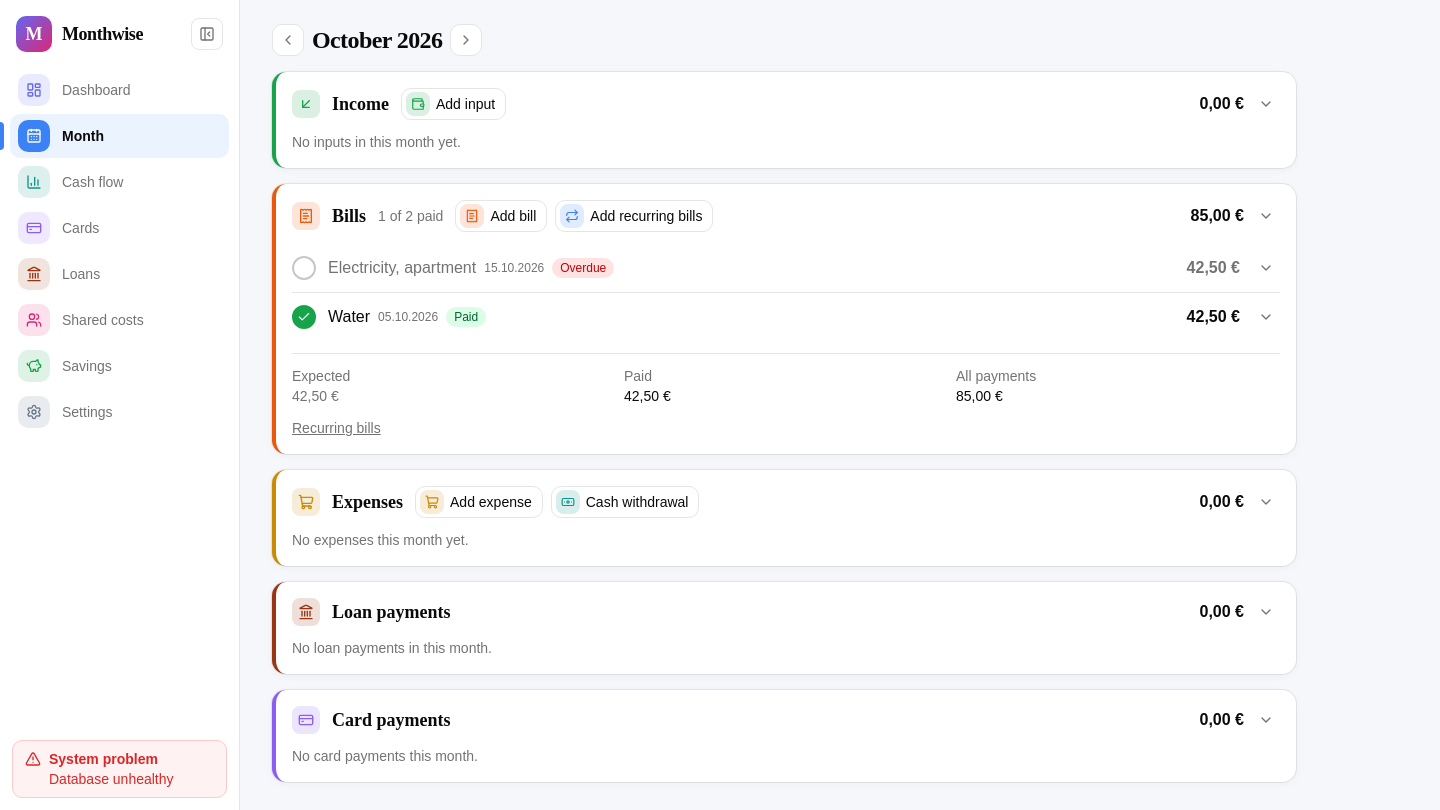
Test: Bills on the Month screen › keeps the add buttons in their sections and shows short rows with details on request
The width and height of the screenshot is (1440, 810).
Expected: the button "Add recurring bills" is shown, [555,200,713,232]
Expected: the text "1 of 2 paid" is shown, [378,206,443,226]
Click the button named "Show details: Electricity, apartment": (1266, 268) [1252,254,1280,282]
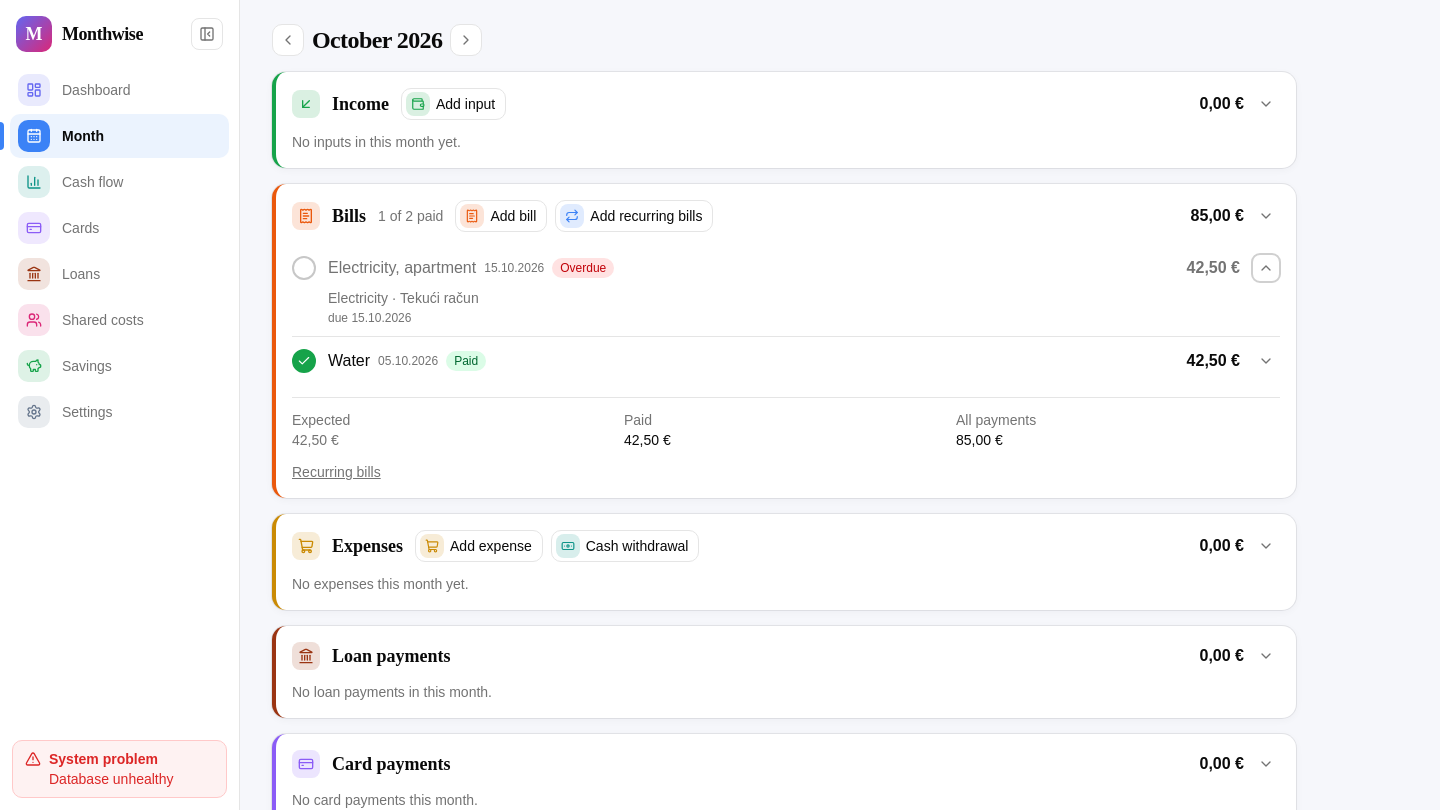
Result: the text "Electricity · Tekući račun" is shown at [328,290,479,306]
